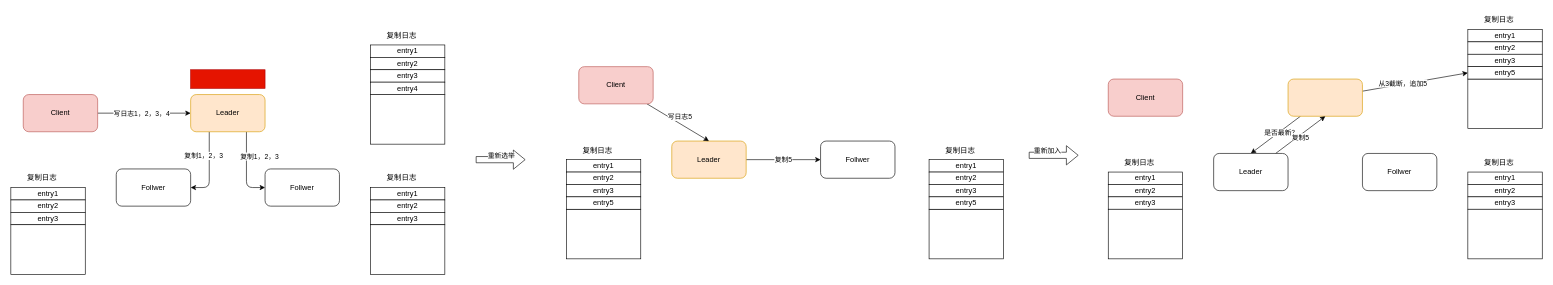
This 1553x285 diagram has some shape labels left out. The centre of each missing label's shape, as x and y in pixels:
"Old Leader 重启" goes at point (1324, 97).
"在复制4之前crash" goes at point (227, 78).
